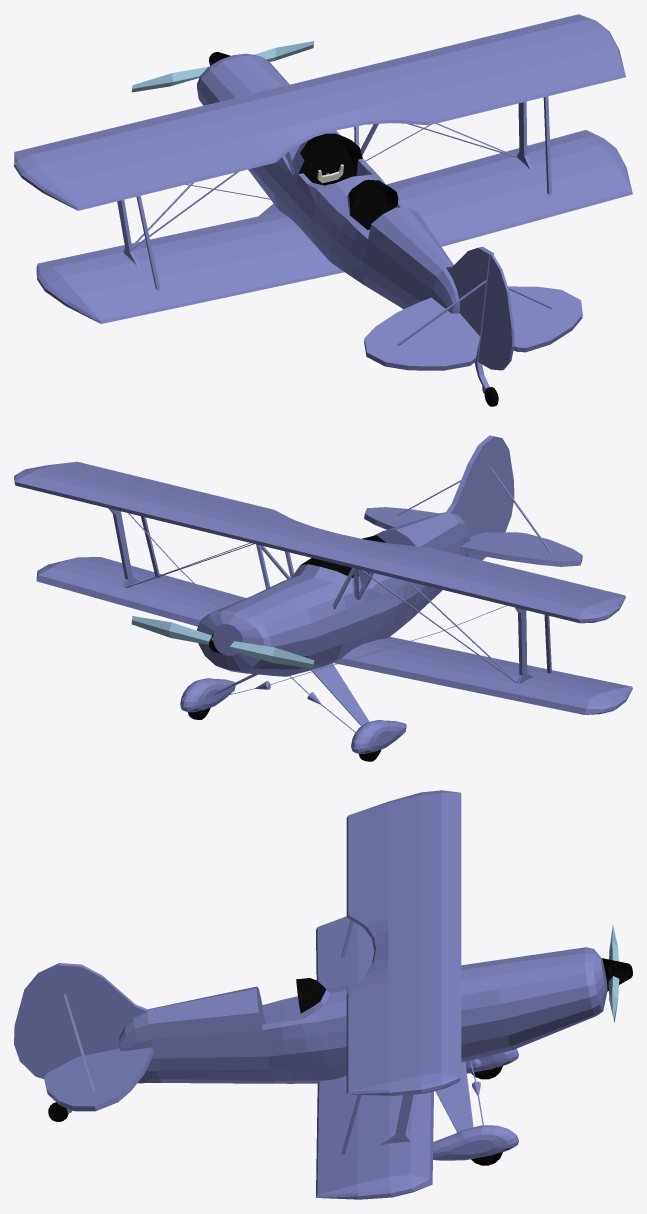
Rendered from rcvolare.glb.
3 renders of one model, top to bottom at view 1: azimuth 30°, elevation 25°; view 2: azimuth 150°, elevation 25°; view 3: azimuth 270°, elevation 25°, orthographic. The views are drawn at different scales.
Parts seen in each view (by area): view 1: BODY, WHEEL 0, SPINNER; view 2: BODY, SPINNER, WHEEL 0; view 3: BODY, WHEEL 0, SPINNER.
Part boxes in pixels (x1,y1,x2,y2): BODY: (14, 14, 632, 406); WHEEL 0: (478, 253, 514, 370); SPINNER: (131, 41, 314, 92); BODY: (14, 435, 632, 761); SPINNER: (131, 616, 314, 668); WHEEL 0: (482, 436, 514, 560); BODY: (44, 790, 607, 1199); WHEEL 0: (14, 963, 77, 1078); SPINNER: (608, 925, 619, 1022).
Bounding box in the file's own units: 16.88 × 5 × 14.89.
